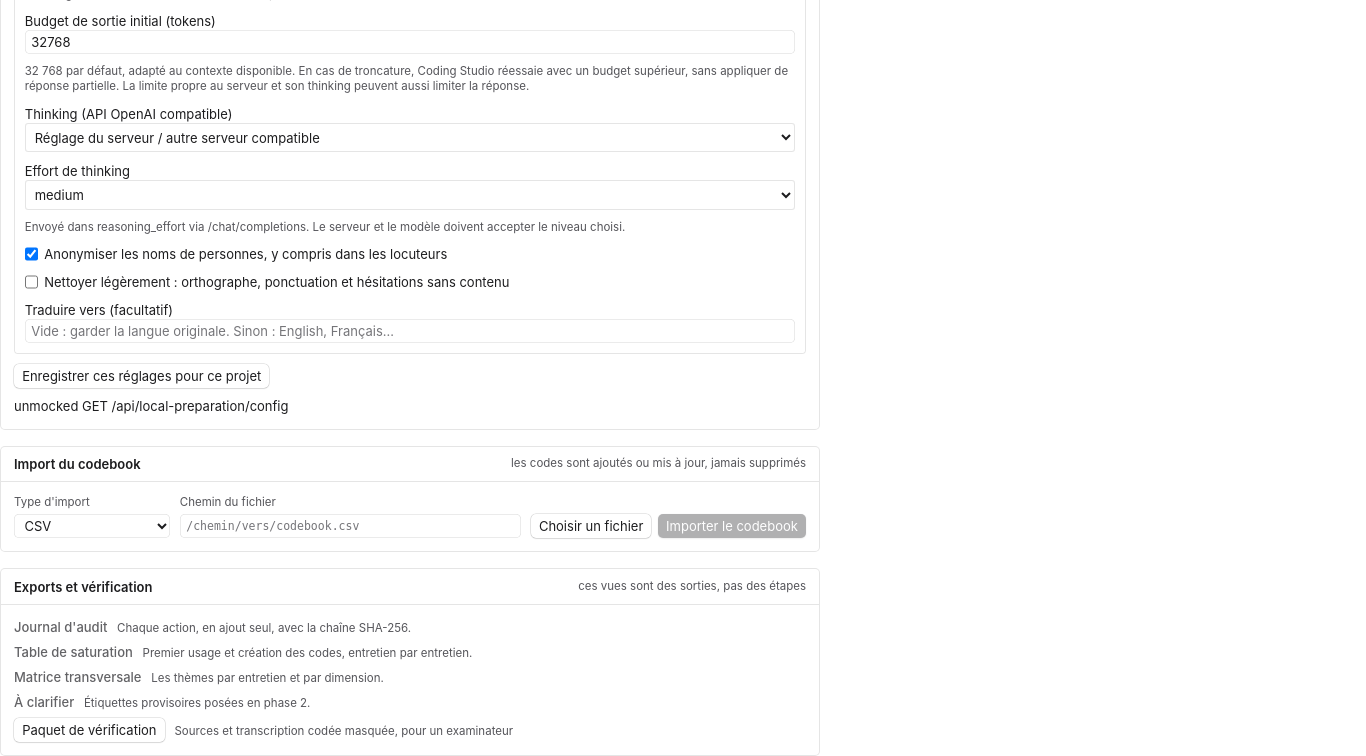
Test: codebook import › uses the native picker when the desktop app provides one
(page scrolled)
Click the button "Choisir un fichier": (591, 526) x1=531 y1=514 x2=652 y2=538
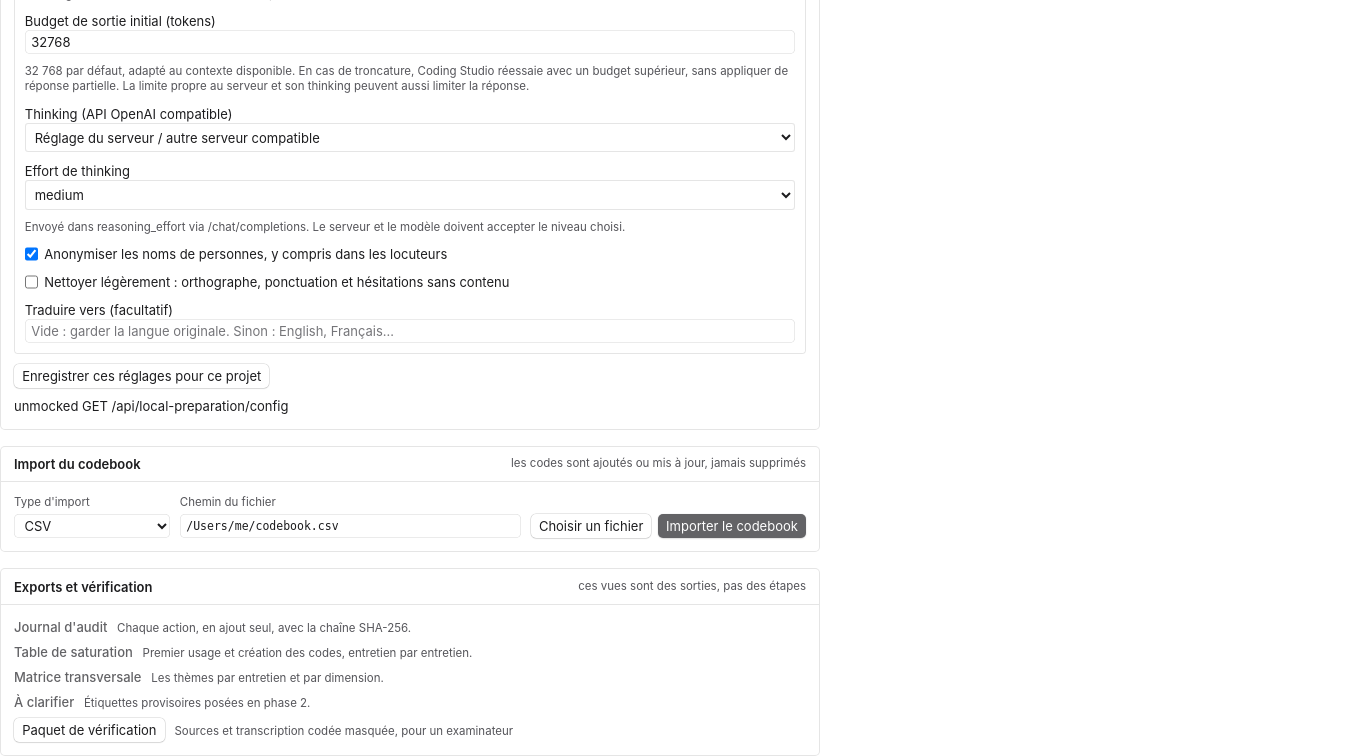
Expected: the field labelled "Chemin du fichier" holds "/Users/me/codebook.csv", x1=180 y1=514 x2=521 y2=538
